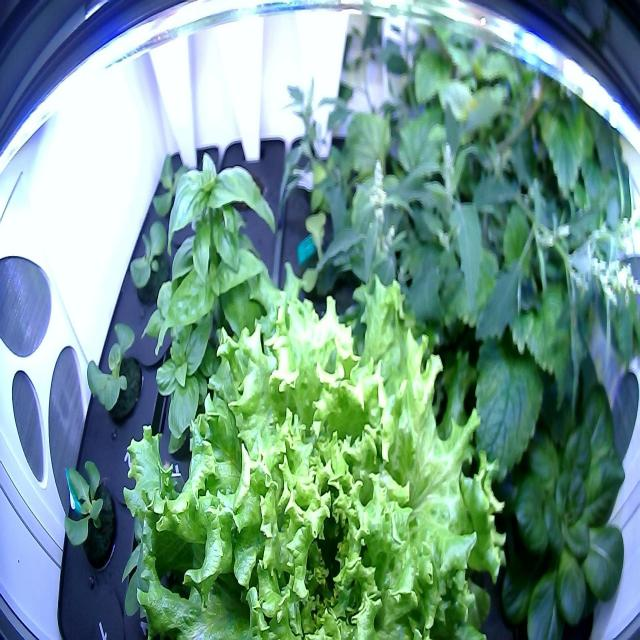Ready: (470, 343, 640, 639)
young: (273, 202, 352, 318), (53, 454, 123, 583), (83, 314, 147, 436), (122, 214, 182, 315), (144, 146, 200, 228)
